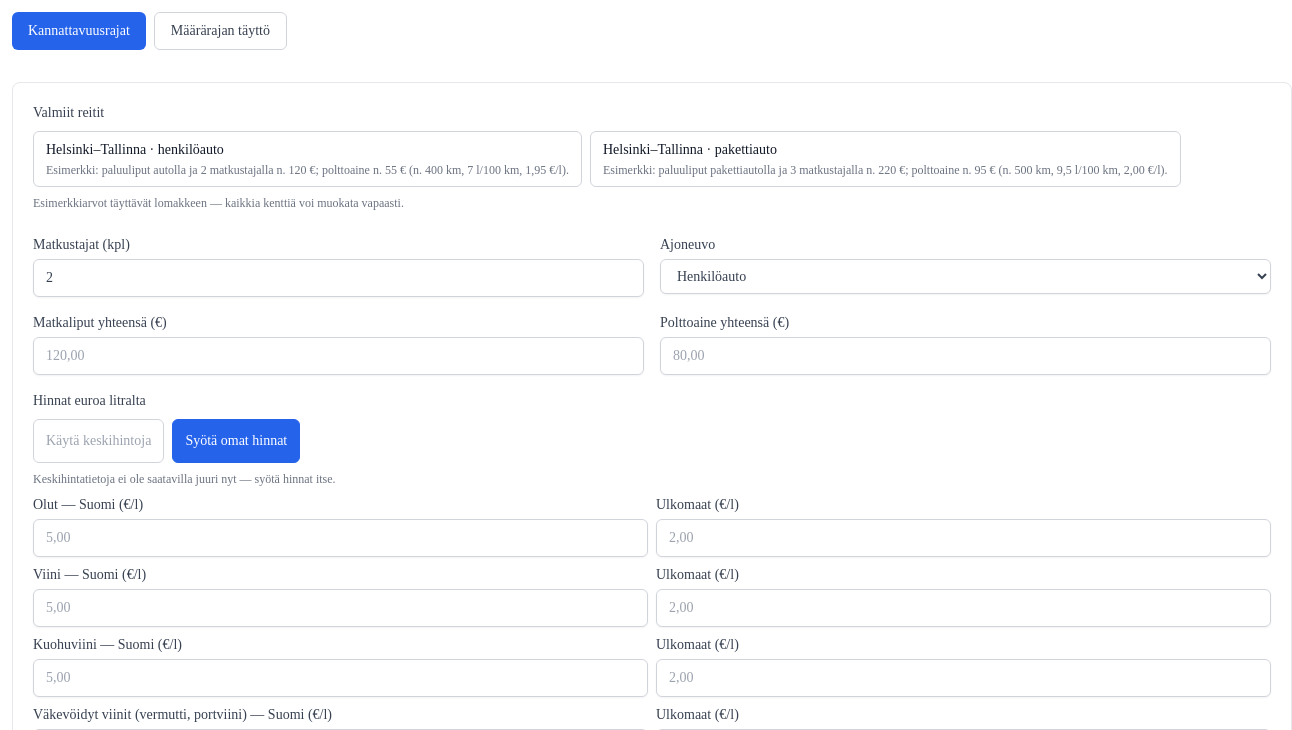
Test: TripPage prefill handshake (?product=&quantity=, task 2.2) › ignores absent params — break-even default, no fetch, empty fill form
This screenshot has width=1292, height=730.
The fill surface stays reachable exactly as before, and empty.
Click the button with test id "trip-mode-fill" at (220, 31), box [154, 12, 287, 50]
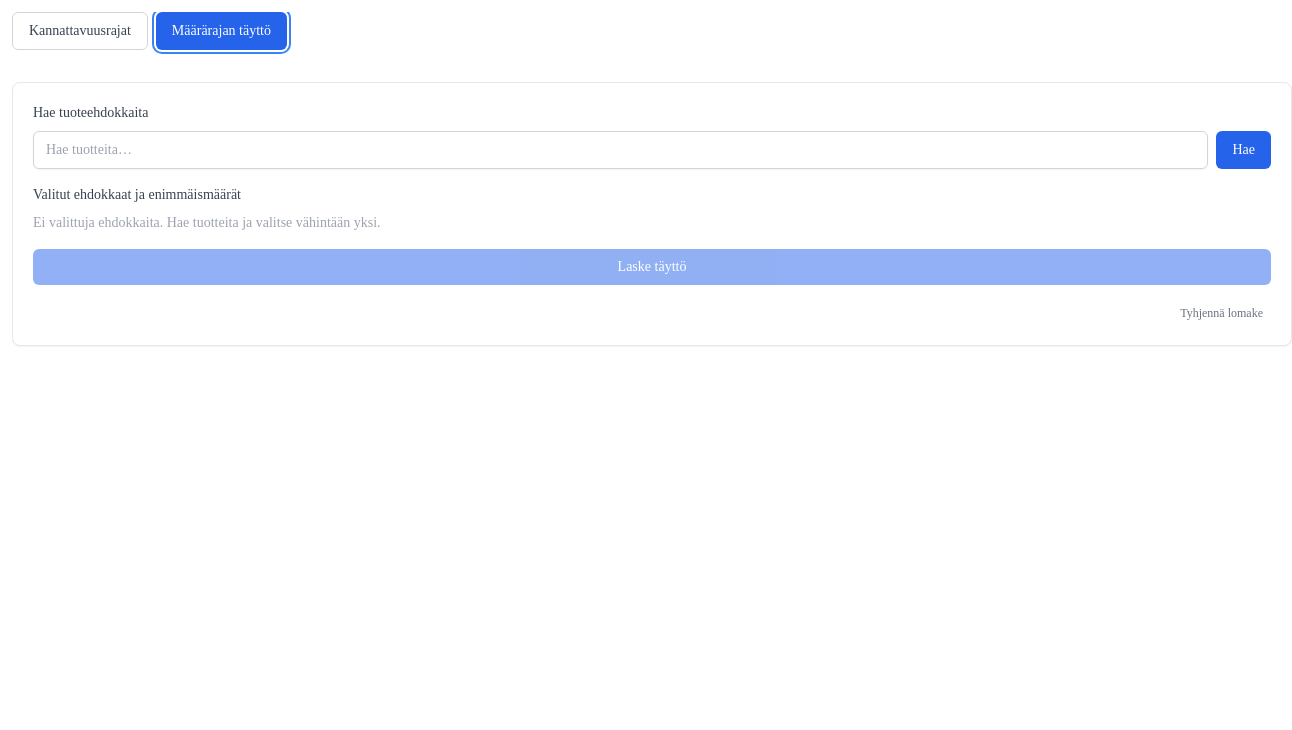
Check: the form with test id "trip-fill-form" is shown, box [33, 103, 1271, 285]
